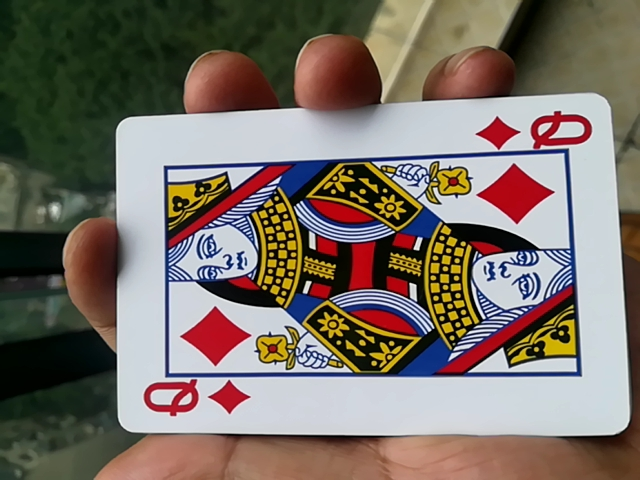fk q: (98, 105, 624, 448)
